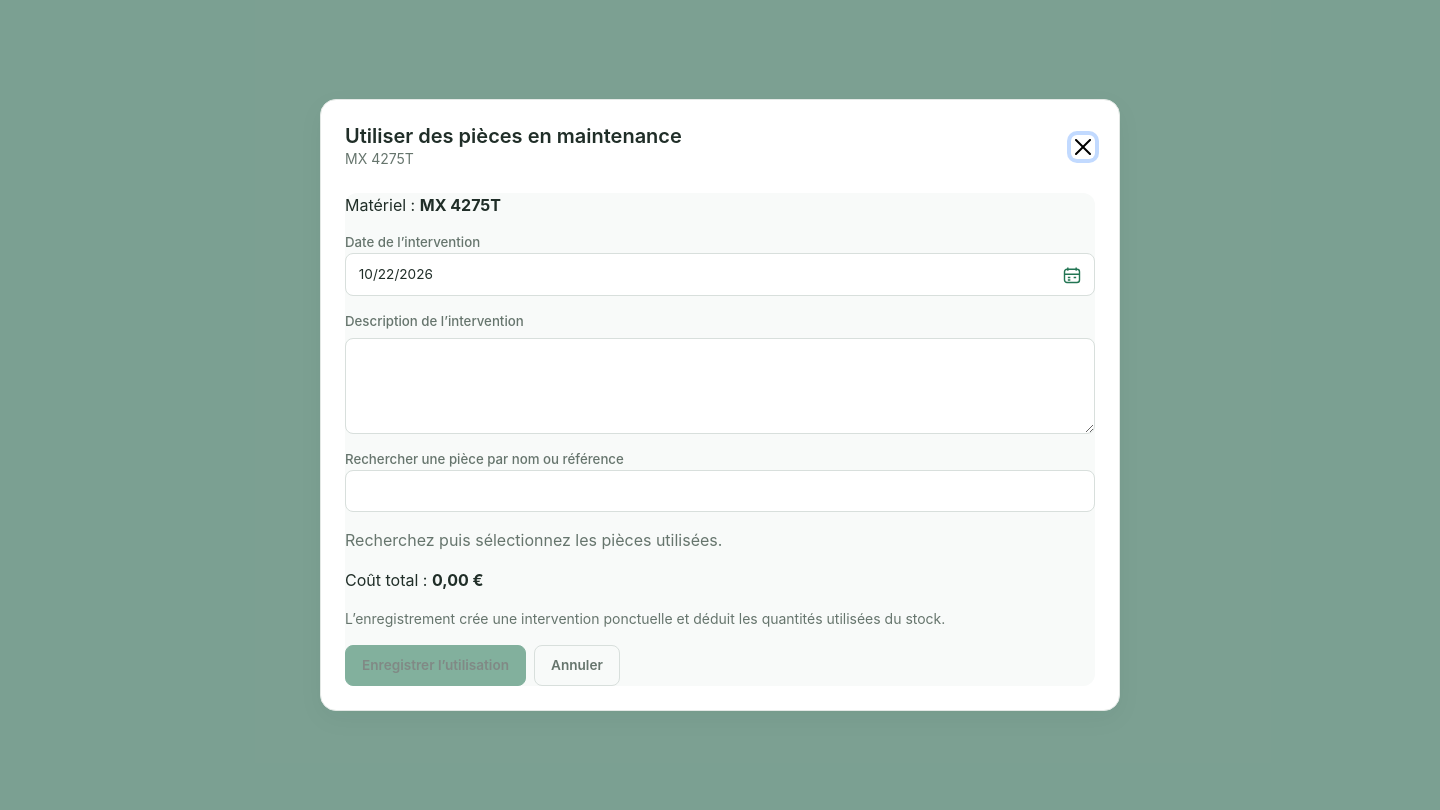
Test: material part consumption › loads every matching catalogue page and excludes empty stocks and already selected parts
This screenshot has width=1440, height=810.
In the dropdown labelled "Rechercher une pièce par nom ou référence": (720, 491) [345,470,1095,512], type "Butée"
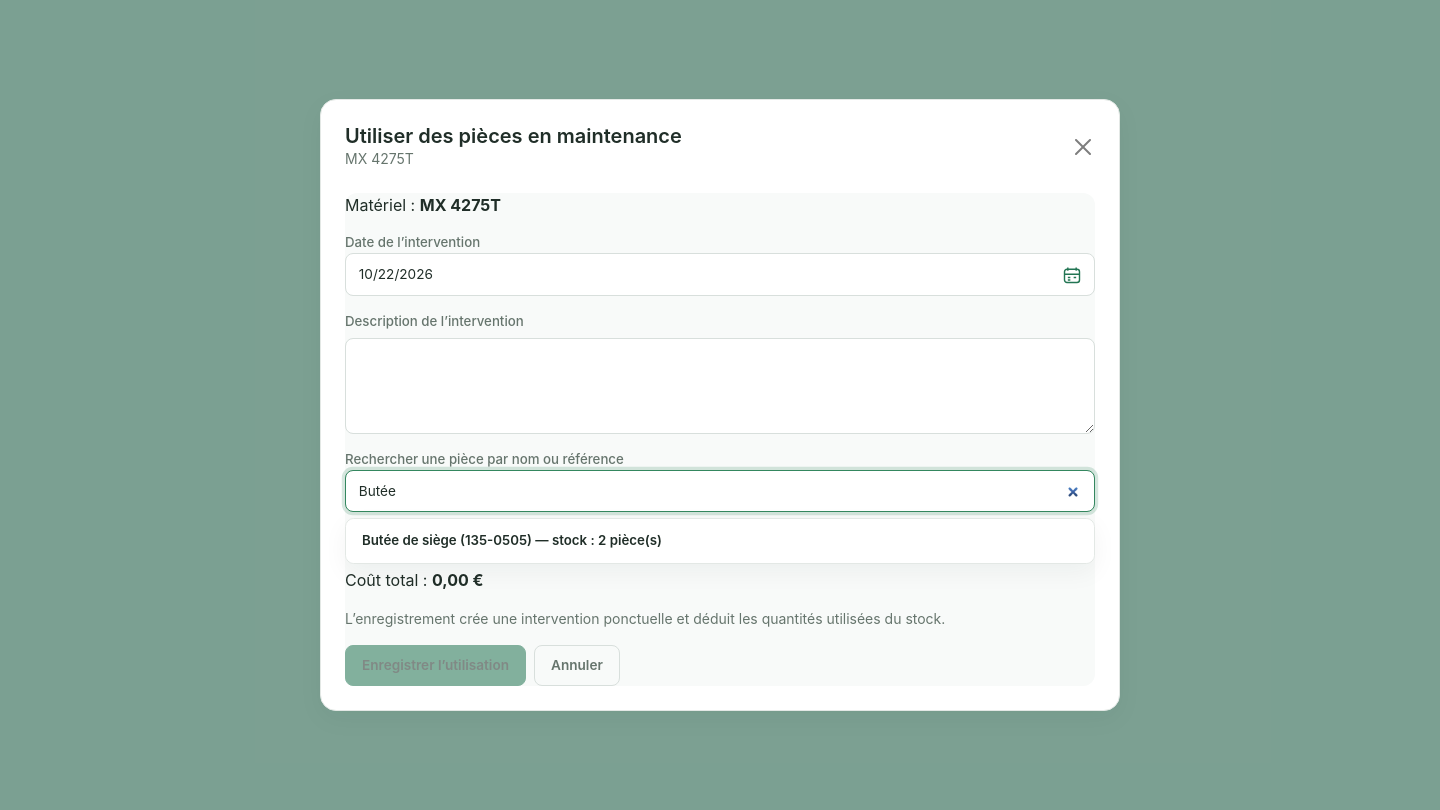
Click the option "Butée de siège (135-0505) — stock : 2 pièce(s)": click(512, 540) [346,519,1094,563]
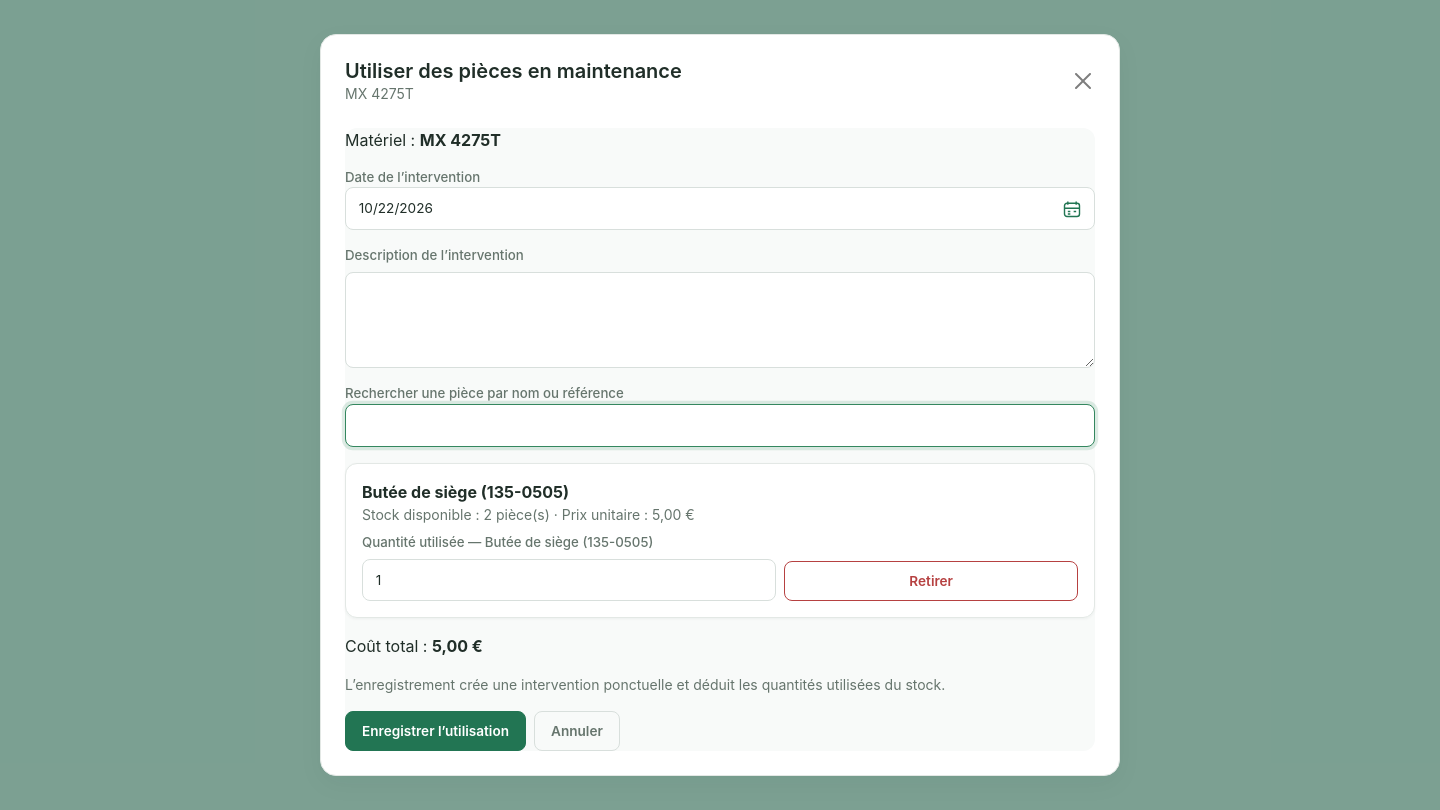
In the dropdown: (720, 425) [345,404,1095,446], type "Butée"
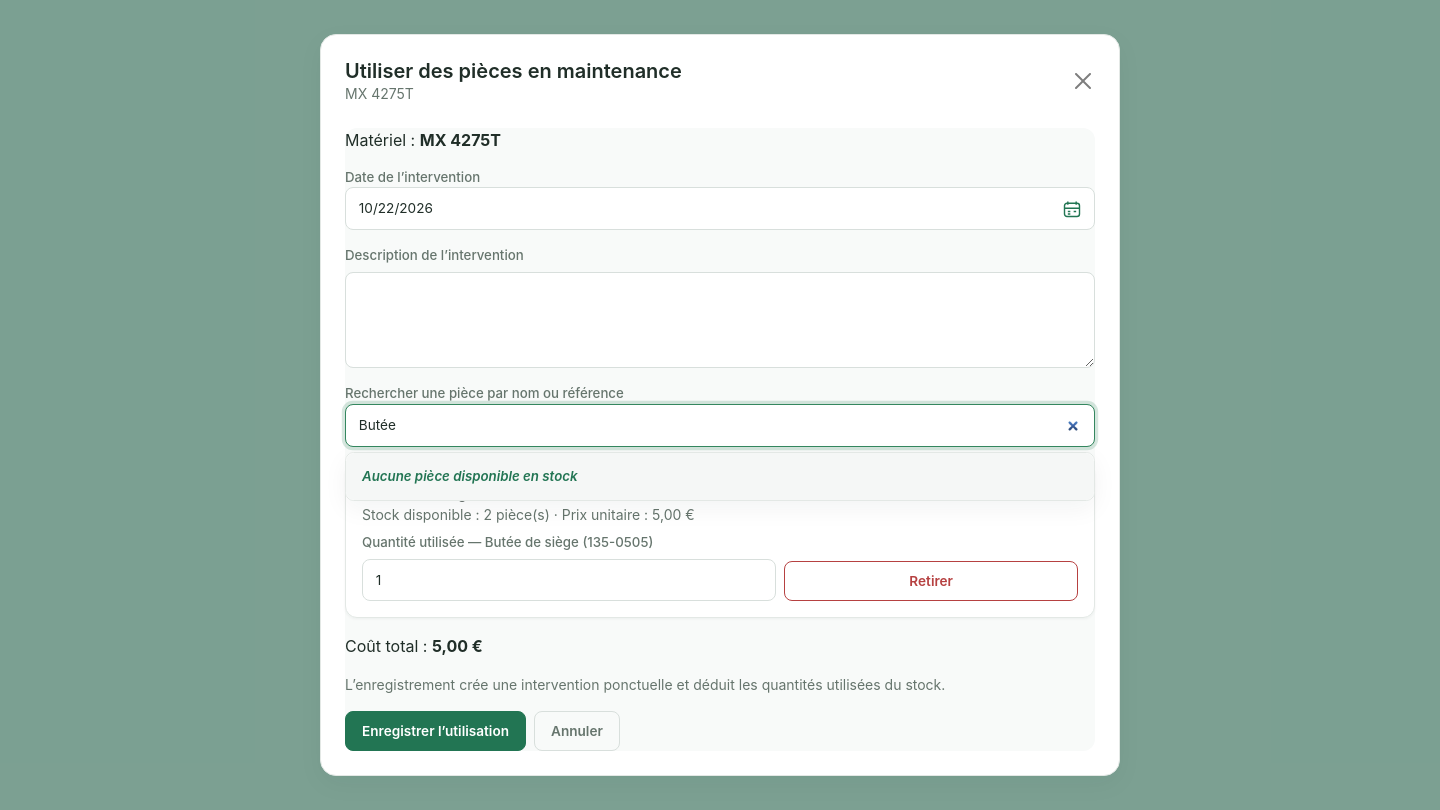
Click the button with aria-label "Retirer Butée": click(931, 581) [784,561,1078,601]
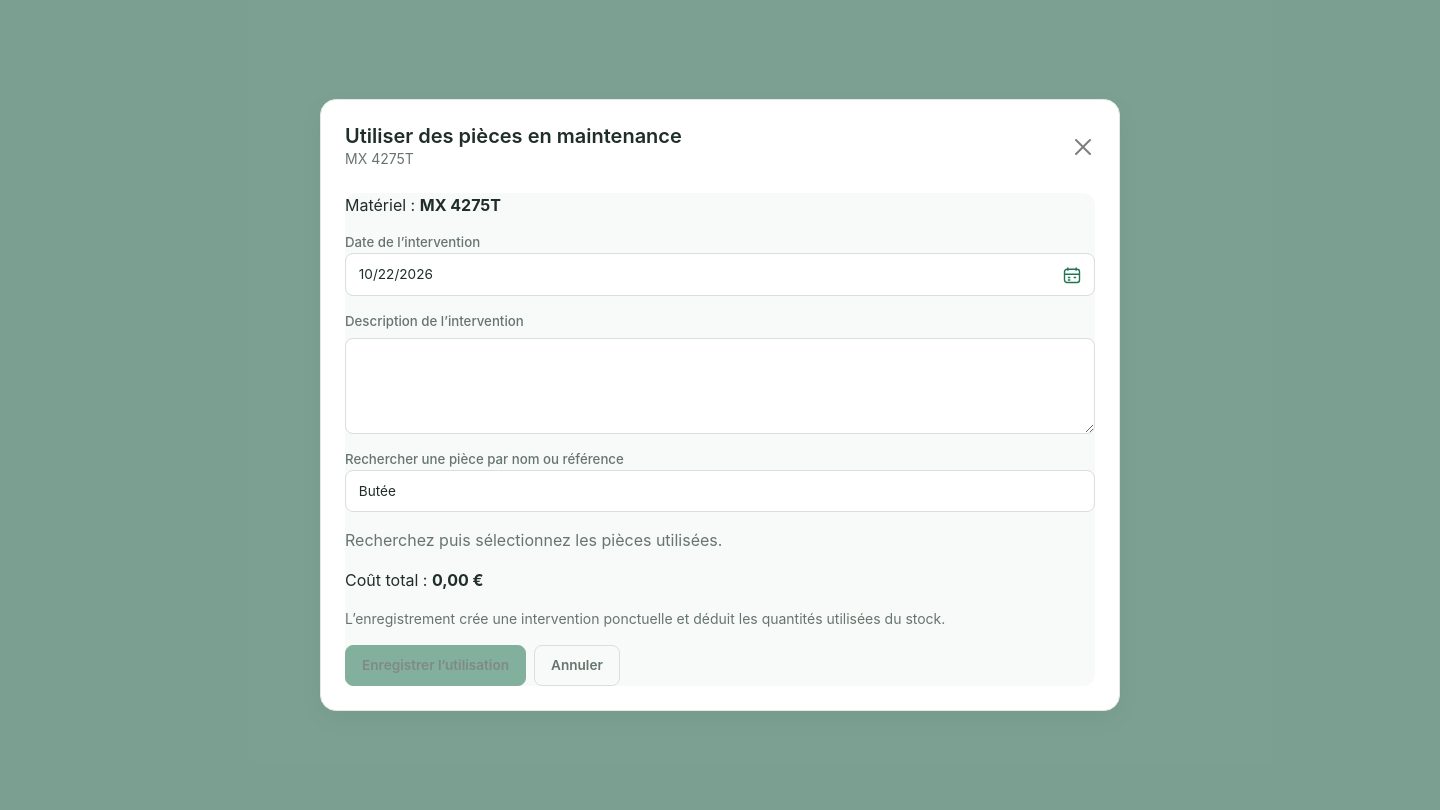
Now the button "Enregistrer l’utilisation" is disabled, box [345,645,526,686]
Click the dropdown: click(720, 491) [345,470,1095,512]
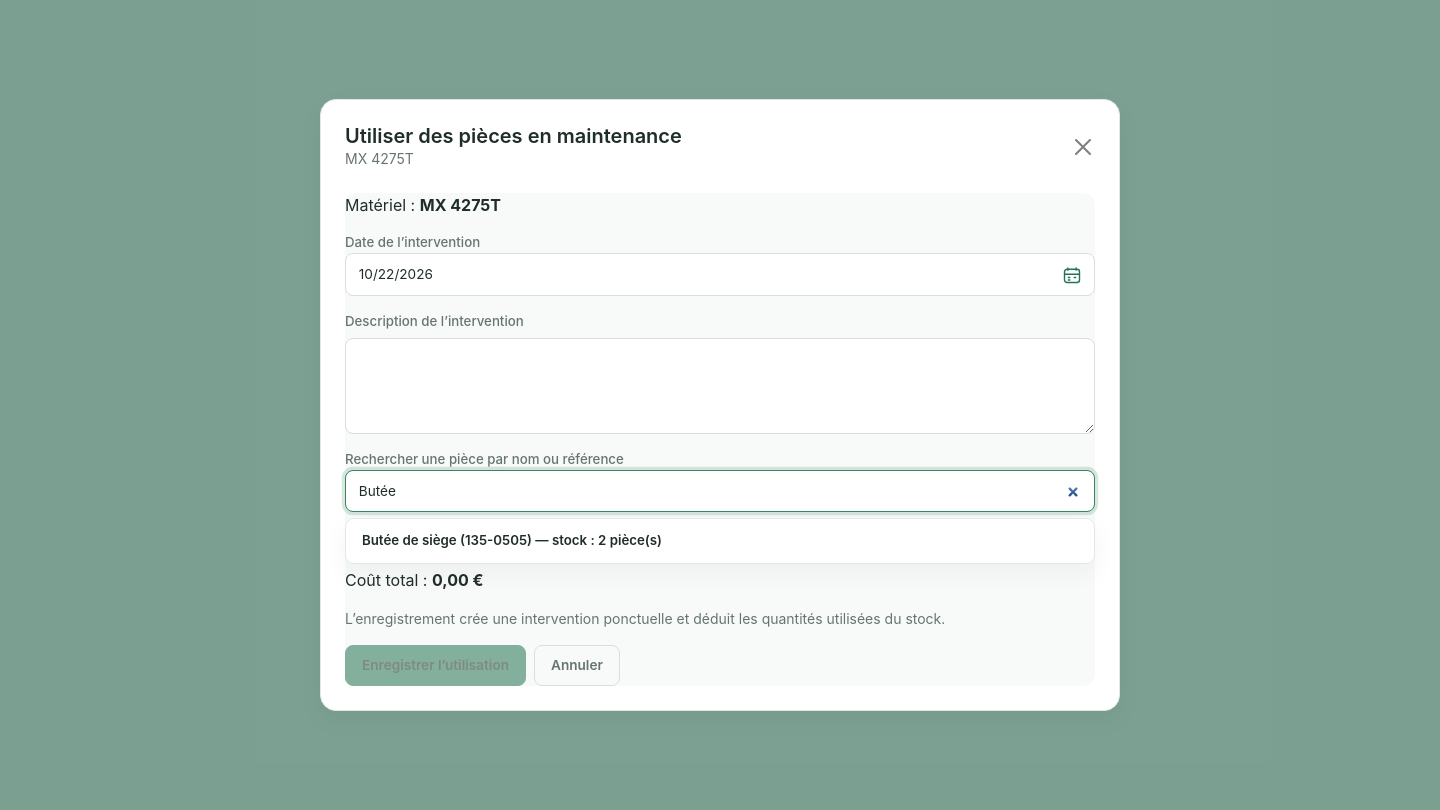
Now the option "Butée de siège (135-0505) — stock : 2 pièce(s)" is shown, box [346,519,1094,563]
